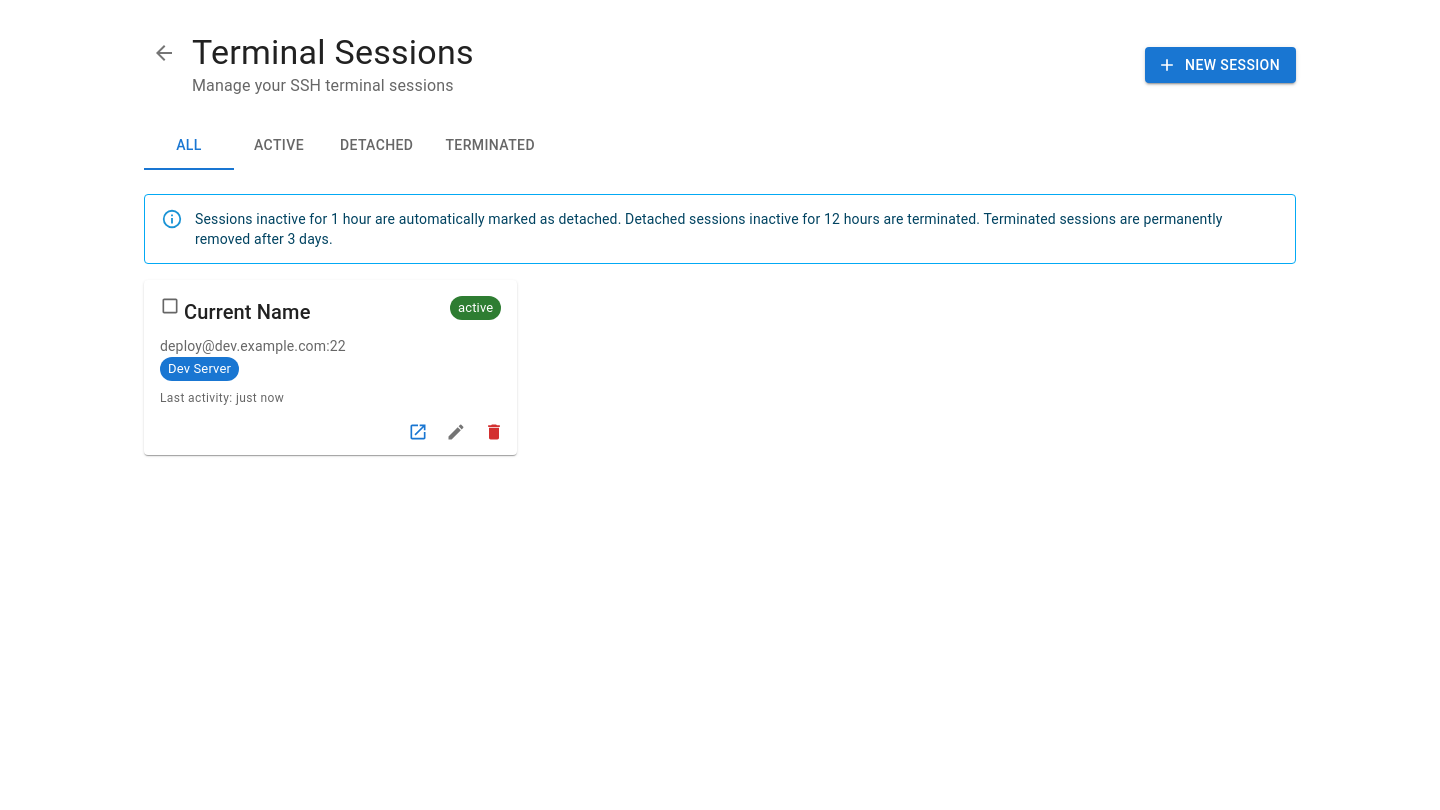
Test: SessionsPage › Rename session › should pre-populate rename field with current session name
Click the button with test id "EditIcon" at (456, 432), box [441,417,471,447]
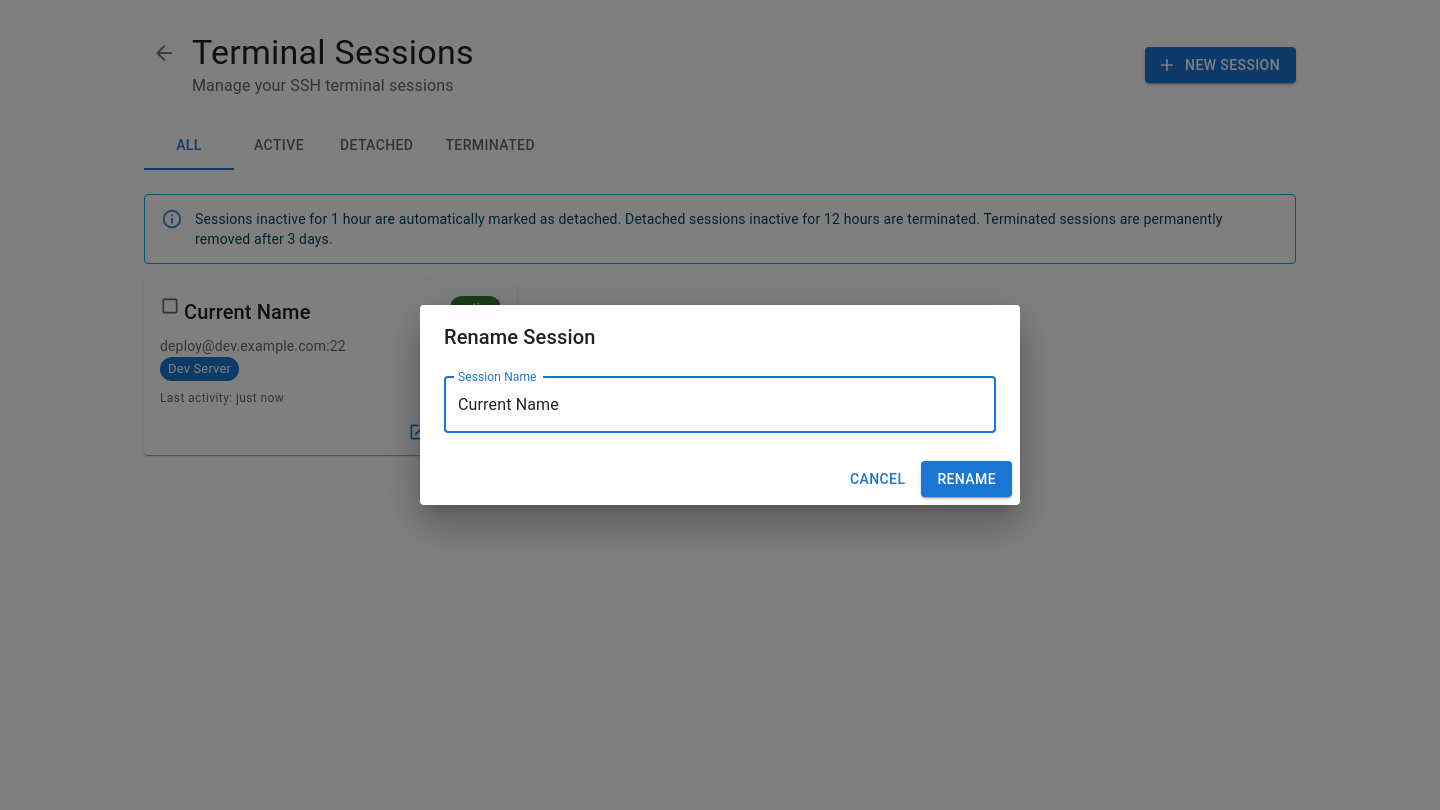
Check: the field labelled "Session Name" holds "Current Name", box [444,377,996,433]
